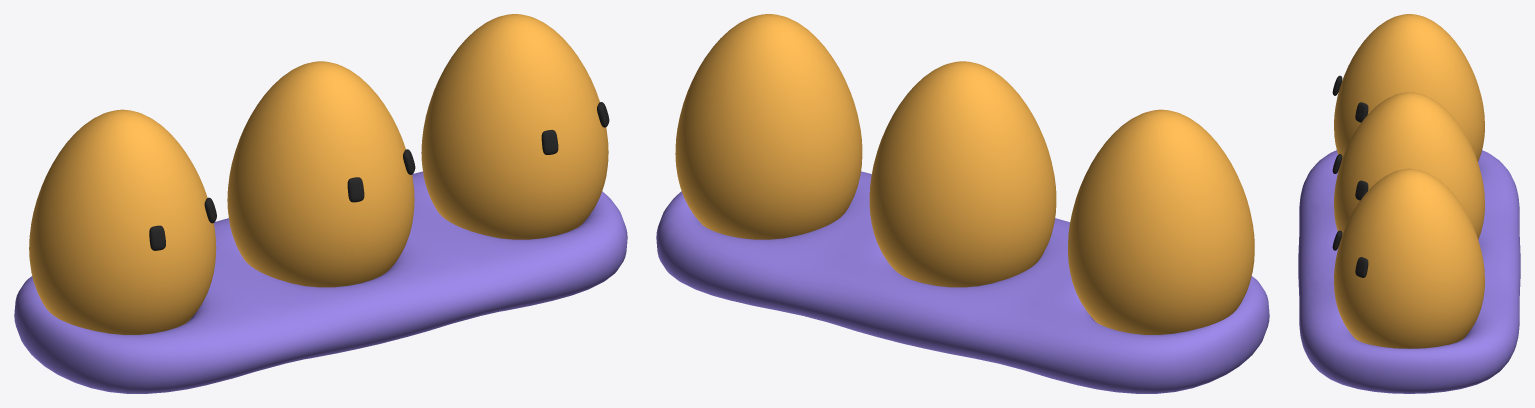
File: eggs-fun-loading-animated-3d-icon-1505082257512.glb
The picture shows the model from 3 angles, left to right: view 1: azimuth 30°, elevation 25°; view 2: azimuth 150°, elevation 25°; view 3: azimuth 270°, elevation 25°; orthographic projection. The views are drawn at different scales.
Visible parts, largest first — view 1: Base, Egg 2, Egg 3, Egg 1; view 2: Base, Egg 2, Egg 3, Egg 1; view 3: Base, Egg 3, Egg 1, Egg 2.
Part boxes in pixels (x1,y1,x2,y2): Base: (14, 171, 627, 393); Egg 2: (227, 61, 415, 287); Egg 3: (421, 14, 609, 239); Egg 1: (29, 109, 216, 334); Base: (656, 171, 1269, 393); Egg 2: (869, 61, 1056, 287); Egg 3: (675, 14, 862, 239); Egg 1: (1068, 109, 1254, 334); Base: (1298, 150, 1520, 393); Egg 3: (1332, 168, 1484, 348); Egg 1: (1332, 14, 1484, 161); Egg 2: (1332, 92, 1484, 239).
Size of the model in its own units: 1.93 by 0.7821 by 0.8139.
